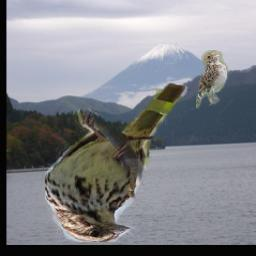Sparrow: (44, 83, 186, 242), (196, 51, 228, 110)
